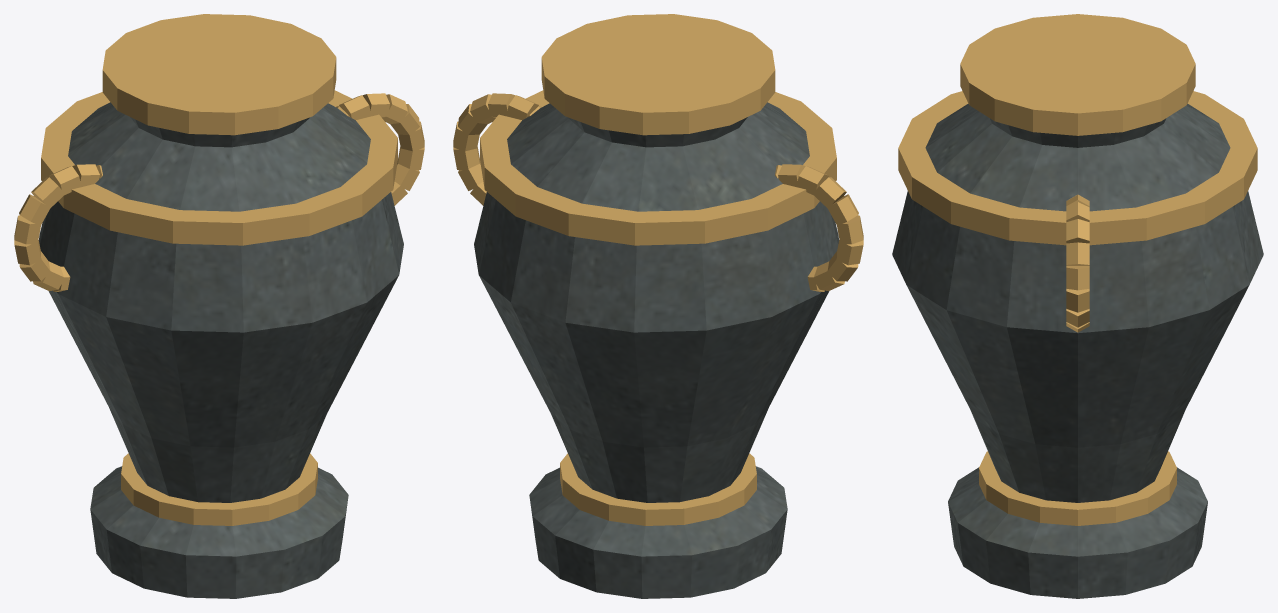
3 renders of one model, left to right at view 1: azimuth 30°, elevation 25°; view 2: azimuth 150°, elevation 25°; view 3: azimuth 270°, elevation 25°, orthographic.
Parts seen in each view (by area): view 1: body; view 2: body; view 3: body.
Boxes of the visible parts, x1,y1,x2,y2 form: body: [14, 14, 424, 598]; body: [453, 14, 863, 598]; body: [892, 14, 1263, 598].
Bounding box in the file's own units: 0.7632 × 0.86 × 0.6.
Materials: 2 (1 with a texture image).
